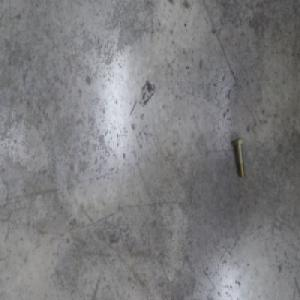Bolt: (232, 136, 245, 178)
